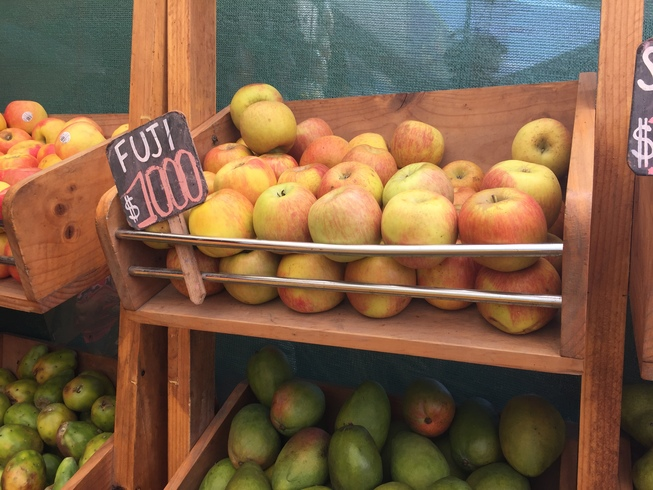precio: (104, 113, 209, 227)
